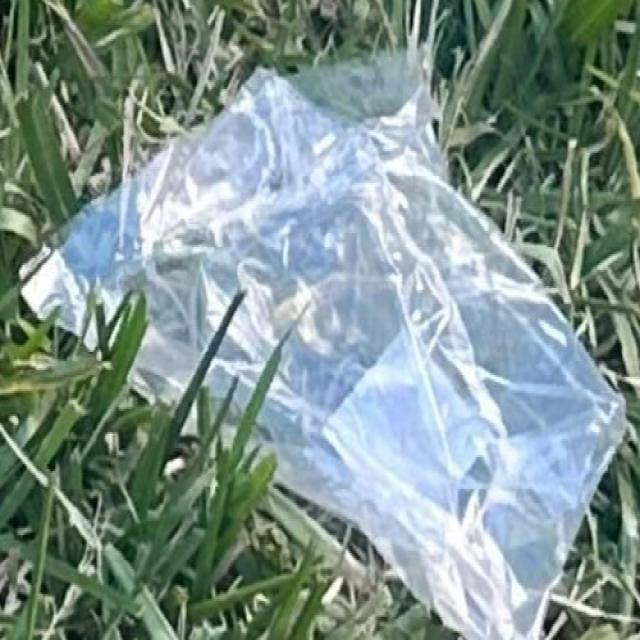plastic bag: (16, 0, 640, 613)
